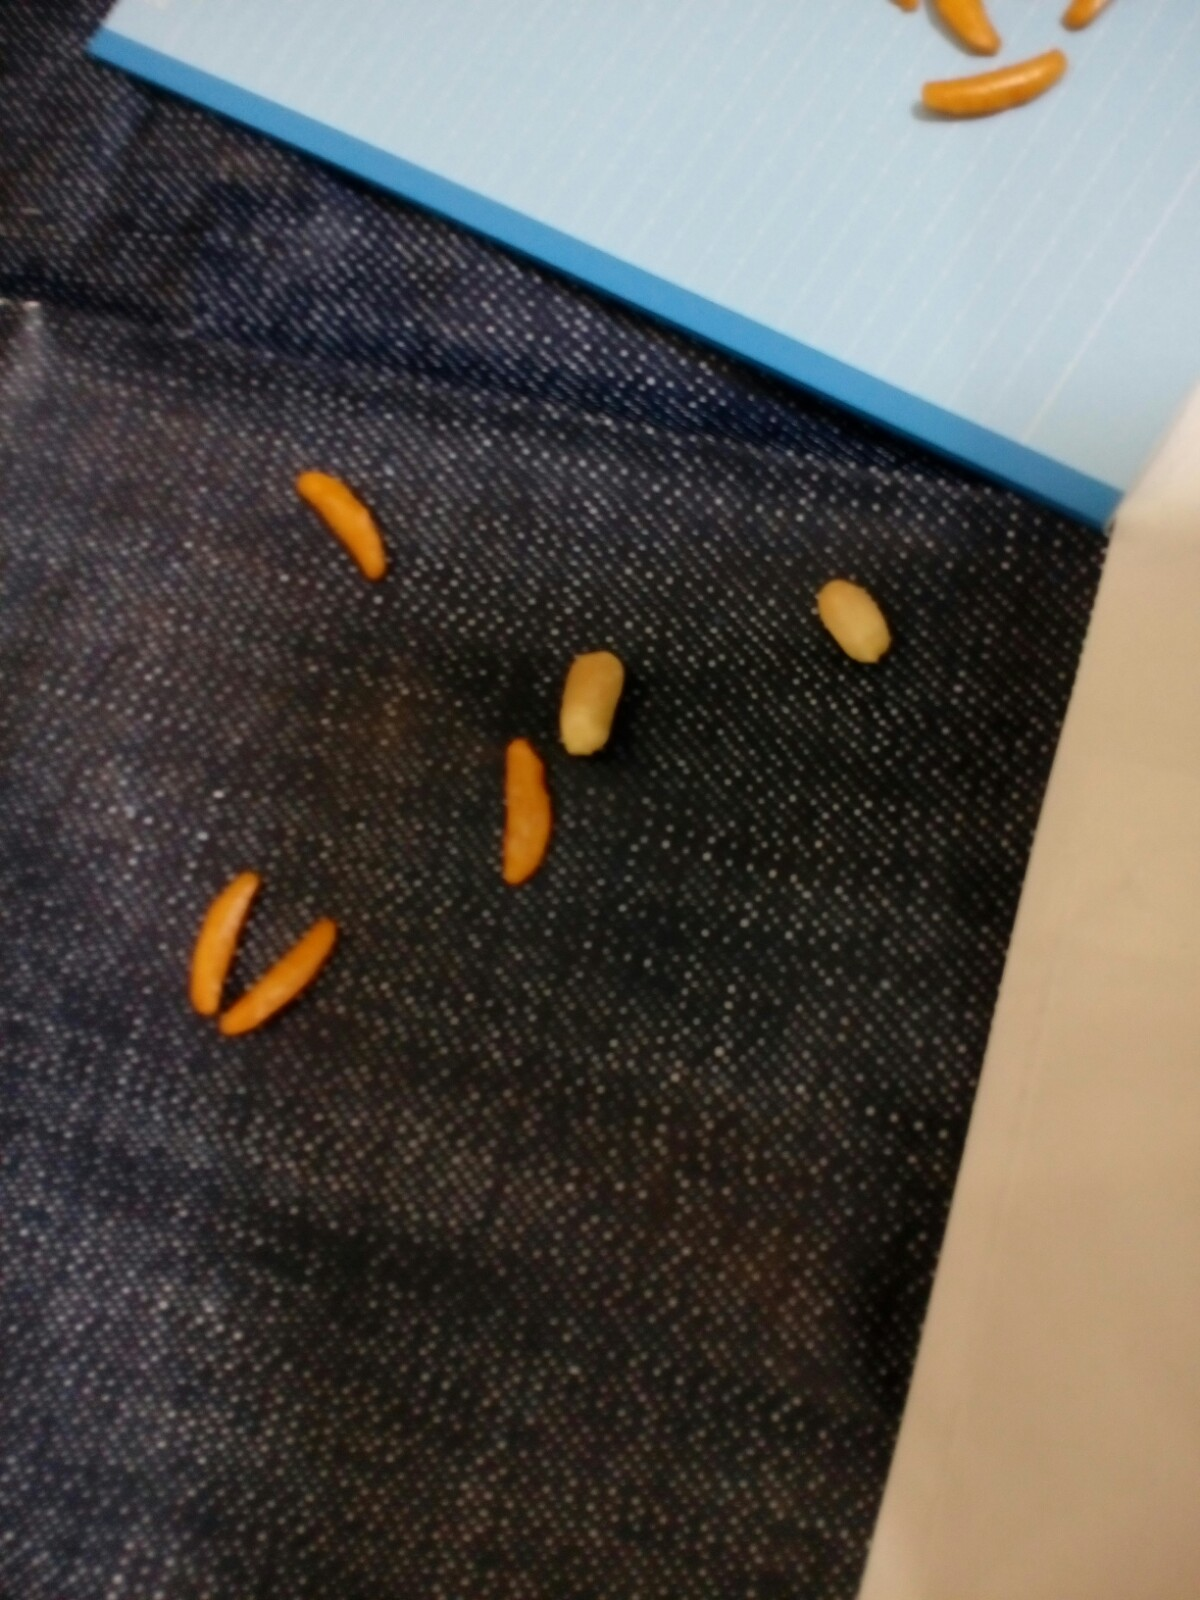peanut: (809, 567, 918, 687), (543, 644, 633, 770)
